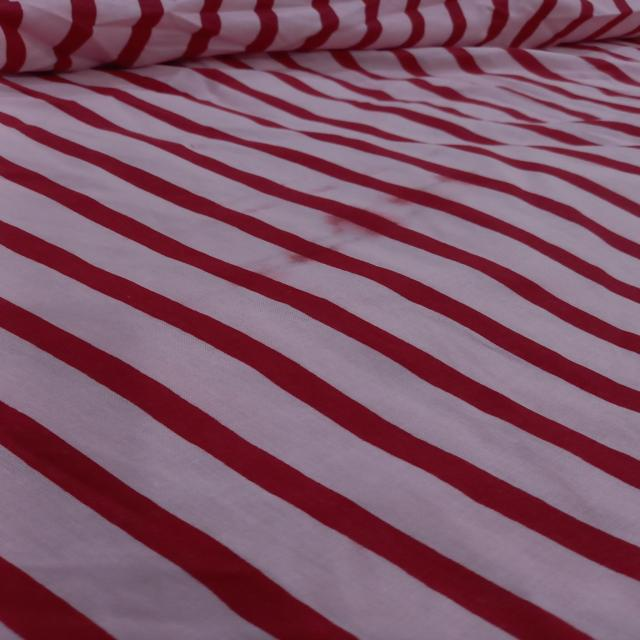color issues: (255, 160, 476, 273)
